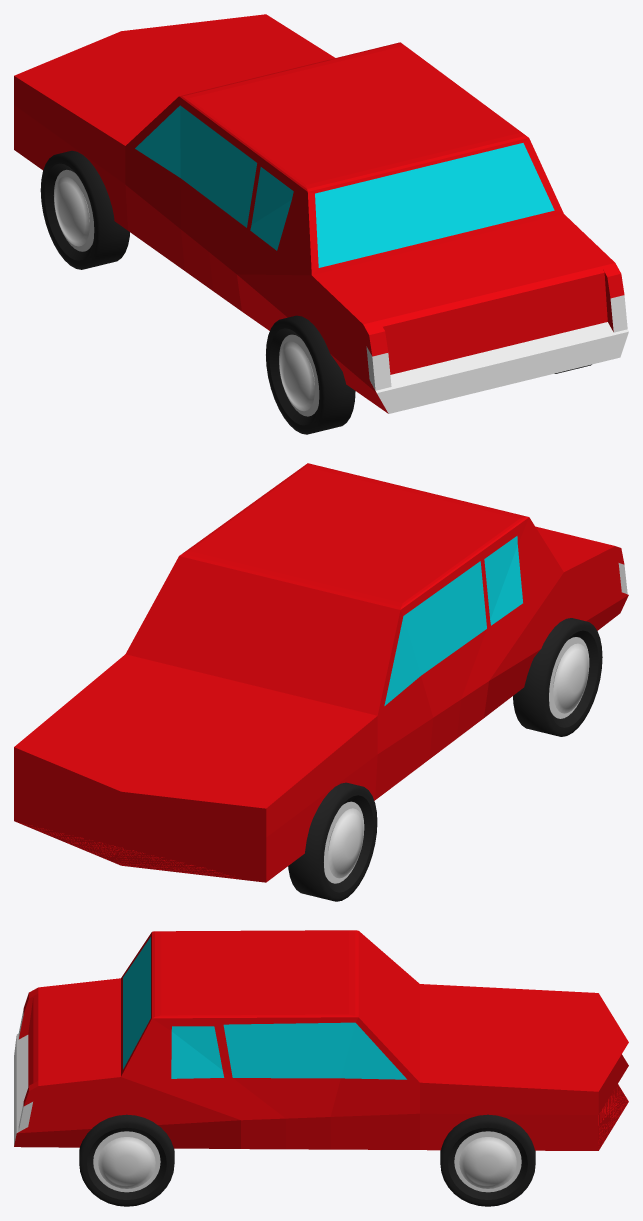
The model's file is car2.fbx.
The picture shows the model from 3 angles, top to bottom: view 1: azimuth 30°, elevation 25°; view 2: azimuth 150°, elevation 25°; view 3: azimuth 270°, elevation 25°; orthographic projection. The views are drawn at different scales.
Visible parts, largest first — view 1: Cube, Cylinder.001, Cylinder.004; view 2: Cube, Cylinder.001, Cylinder.004; view 3: Cube, Cylinder.002, Cylinder.003.
Part boxes in pixels (x1,y1,x2,y2): Cube: (14,14,628,413); Cylinder.001: (266,315,355,434); Cylinder.004: (40,150,129,269); Cube: (14,463,628,882); Cylinder.001: (513,618,602,736); Cylinder.004: (288,782,377,901); Cube: (14,930,628,1150); Cylinder.002: (79,1114,174,1206); Cylinder.003: (440,1114,535,1206).
Bounding box in the file's own units: 348 × 257 × 801.
